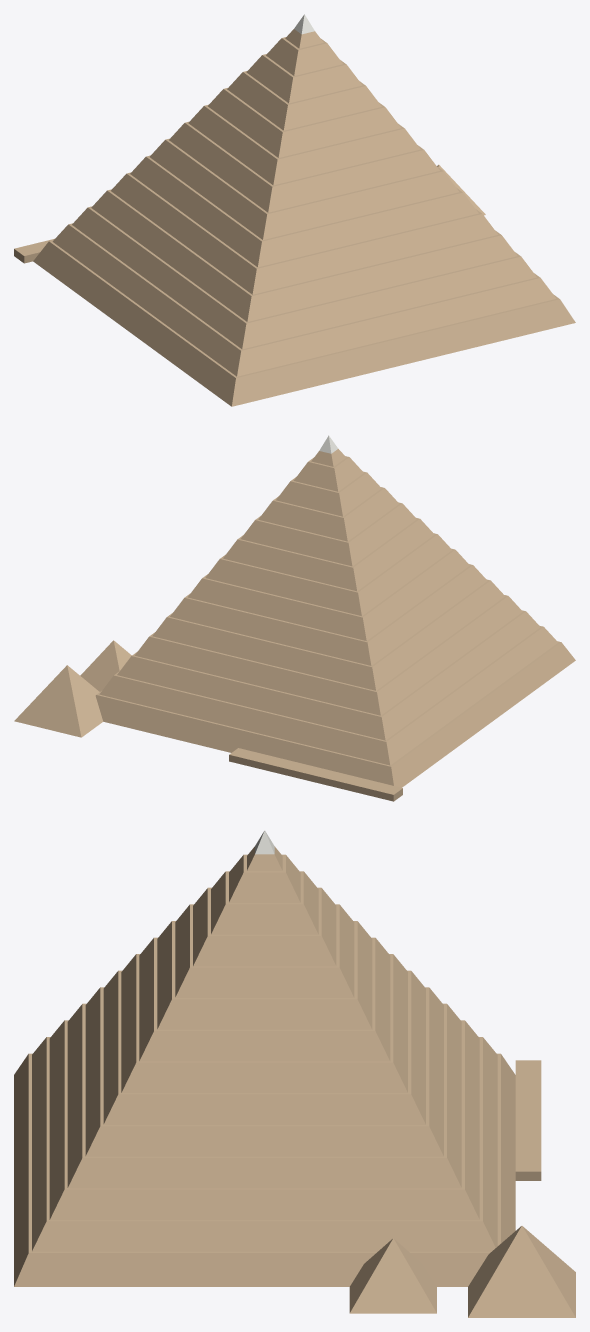
The model's file is great_pyramid.glb.
3 renders of one model, top to bottom at view 1: azimuth 30°, elevation 25°; view 2: azimuth 150°, elevation 25°; view 3: azimuth 270°, elevation 25°, orthographic. The views are drawn at different scales.
Parts seen in each view (by area): view 1: great_pyramid; view 2: great_pyramid; view 3: great_pyramid.
Boxes of the visible parts, bbox=[...] form: great_pyramid: bbox=[14, 14, 575, 406]; great_pyramid: bbox=[14, 435, 575, 801]; great_pyramid: bbox=[14, 830, 575, 1317].
Size of the model in its own units: 45.7 by 30.1 by 43.7.
